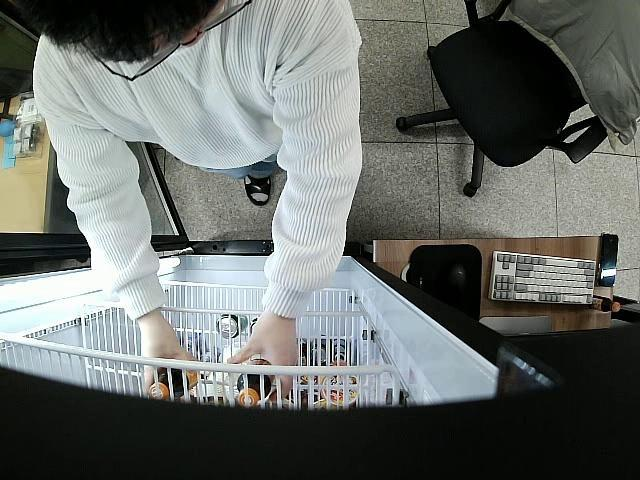17_vita500: (148, 366, 202, 400), (235, 359, 272, 408)
